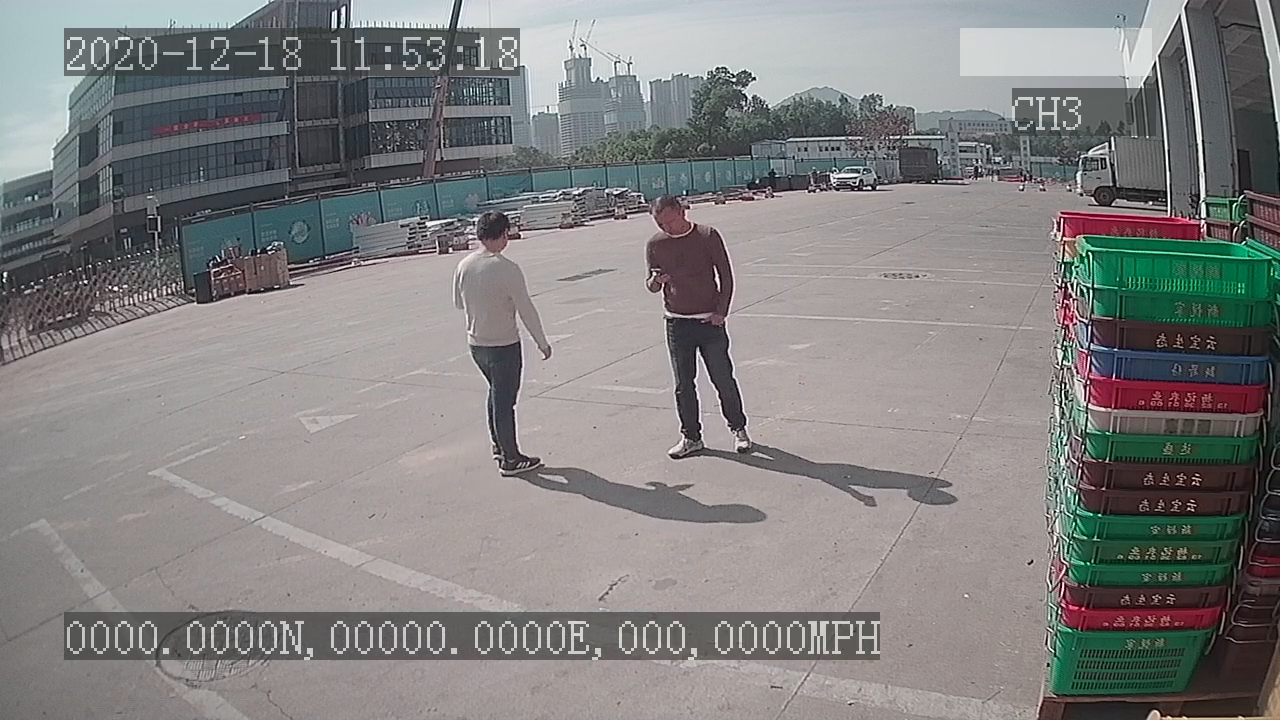person: (634, 190, 758, 465), (445, 202, 552, 483)
